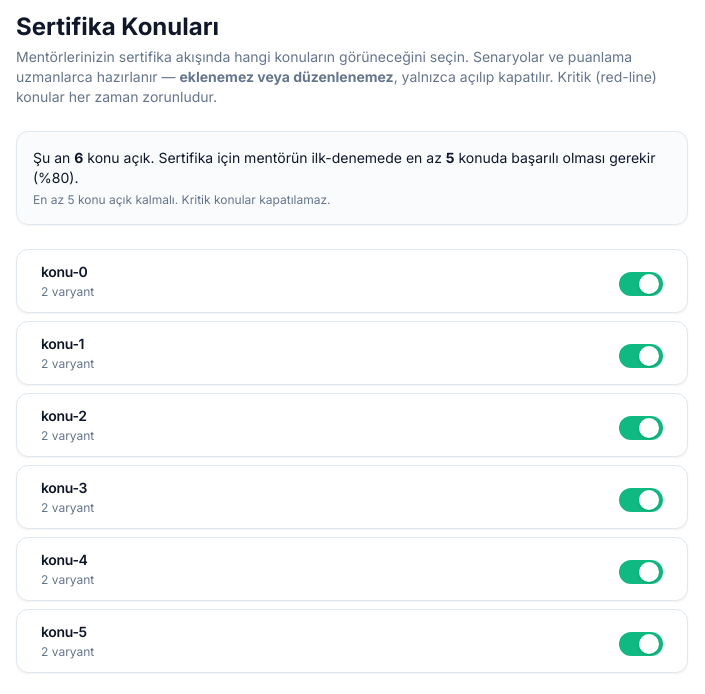
AdminCertificationPage — konu güncelleme hatası › mesajsız hatada Türkçe yedek metni gösterir (negatif)
Expected: the text "Şu an" is shown, [33,149,74,166]
Click the switch named "konu-1 konusunu kapat".
click(641, 356)  # box [619,344,663,368]
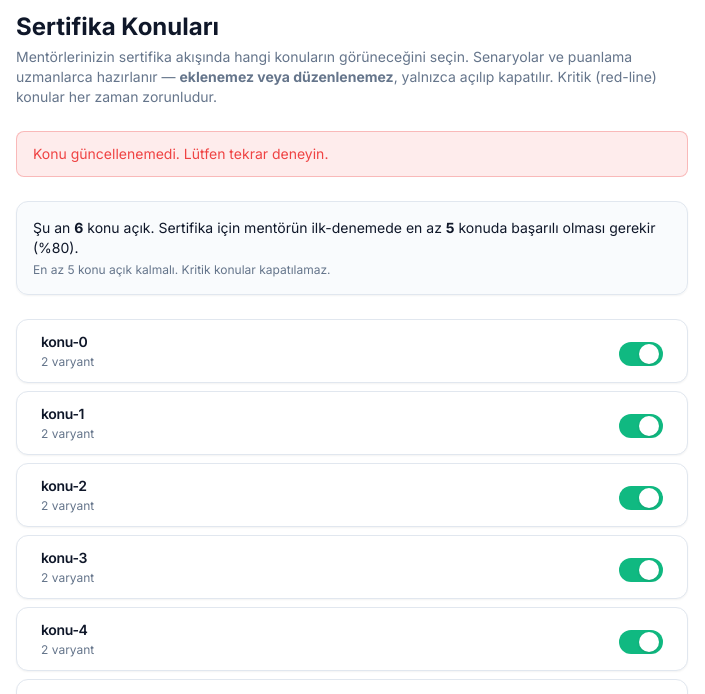
Expected: the text "Konu güncellenemedi. Lütfen tekrar deneyin." is shown, [16,131,688,177]
